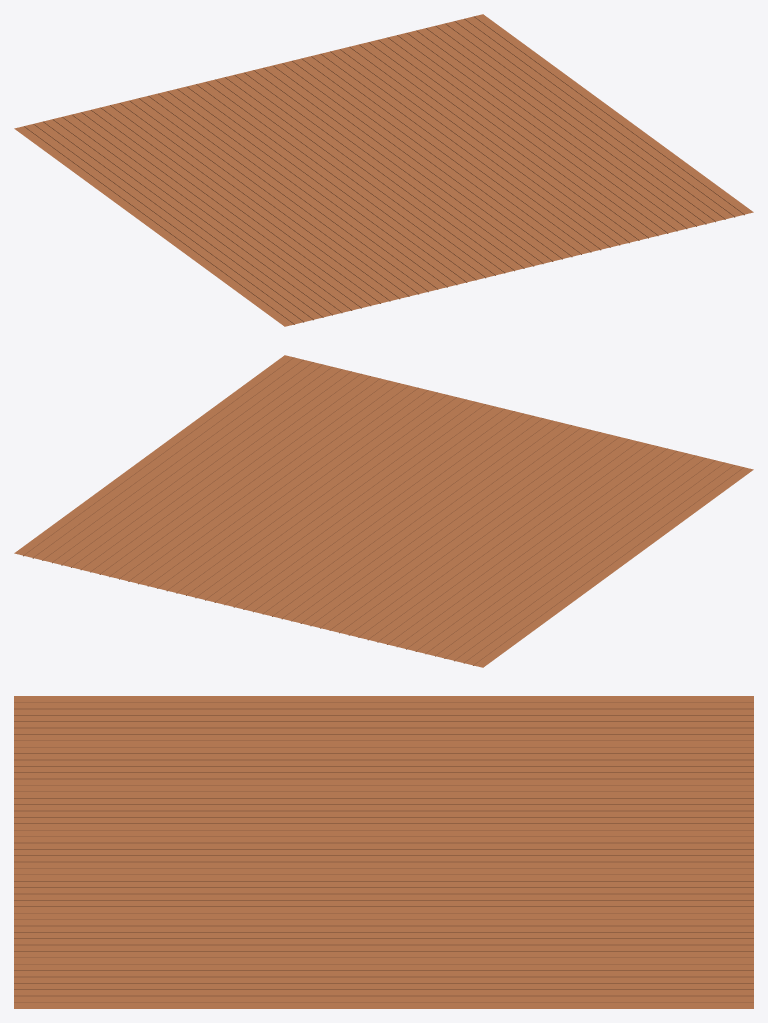
File: floor.fbx
The picture shows the model from 3 angles, top to bottom: view 1: azimuth 30°, elevation 25°; view 2: azimuth 150°, elevation 25°; view 3: azimuth 270°, elevation 25°; orthographic projection. The views are drawn at different scales.
Visible parts, largest first — view 1: floor; view 2: floor; view 3: floor.
Part boxes in pixels (x1,y1,x2,y2): floor: [14, 14, 753, 326]; floor: [14, 355, 753, 667]; floor: [14, 696, 753, 1008].
Bounding box in the file's own units: 597 × 0.6465 × 597.
